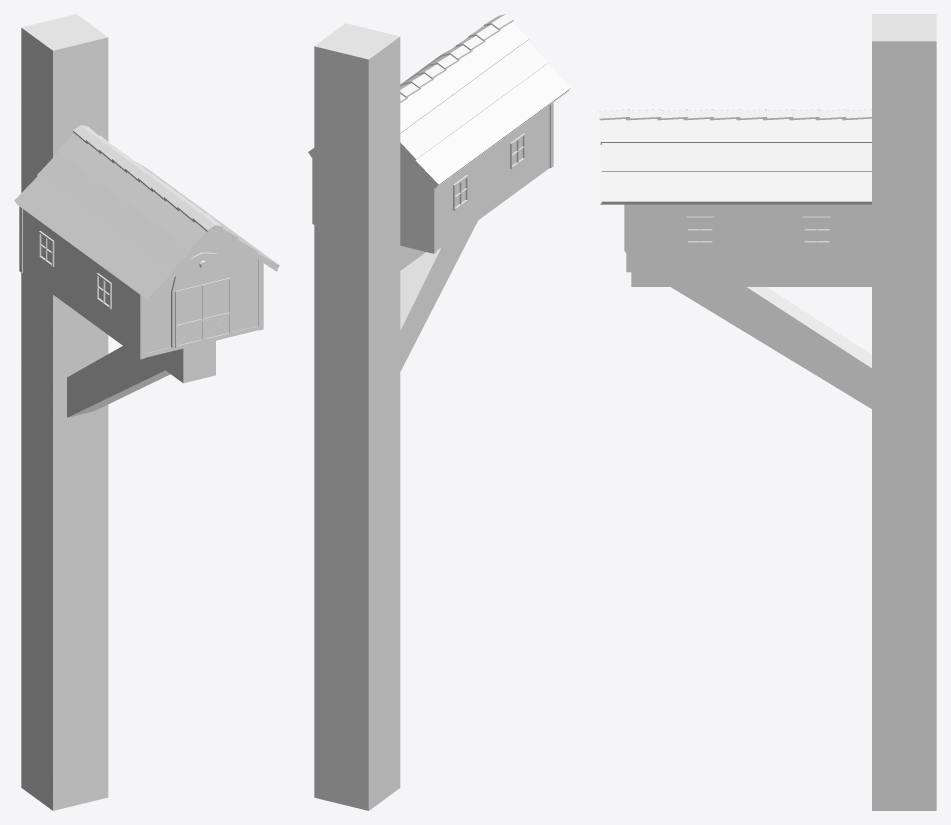
The model's file is Prop_Letterbox_02.glb.
3 views of the same model, side by side, from view 1: azimuth 30°, elevation 25°; view 2: azimuth 150°, elevation 25°; view 3: azimuth 270°, elevation 25° (orthographic). The views are drawn at different scales.
Visible parts, largest first — view 1: Prop_Letterbox_02, Prop_Letterbox_Door_02; view 2: Prop_Letterbox_02; view 3: Prop_Letterbox_02.
Part boxes in pixels (x1,y1,x2,y2): Prop_Letterbox_02: (14, 14, 279, 810); Prop_Letterbox_Door_02: (171, 252, 232, 347); Prop_Letterbox_02: (308, 14, 570, 810); Prop_Letterbox_02: (599, 14, 936, 810).
Bounding box in the file's own units: 0.263 × 1.44 × 0.5733.
1 material, 1 textured.
